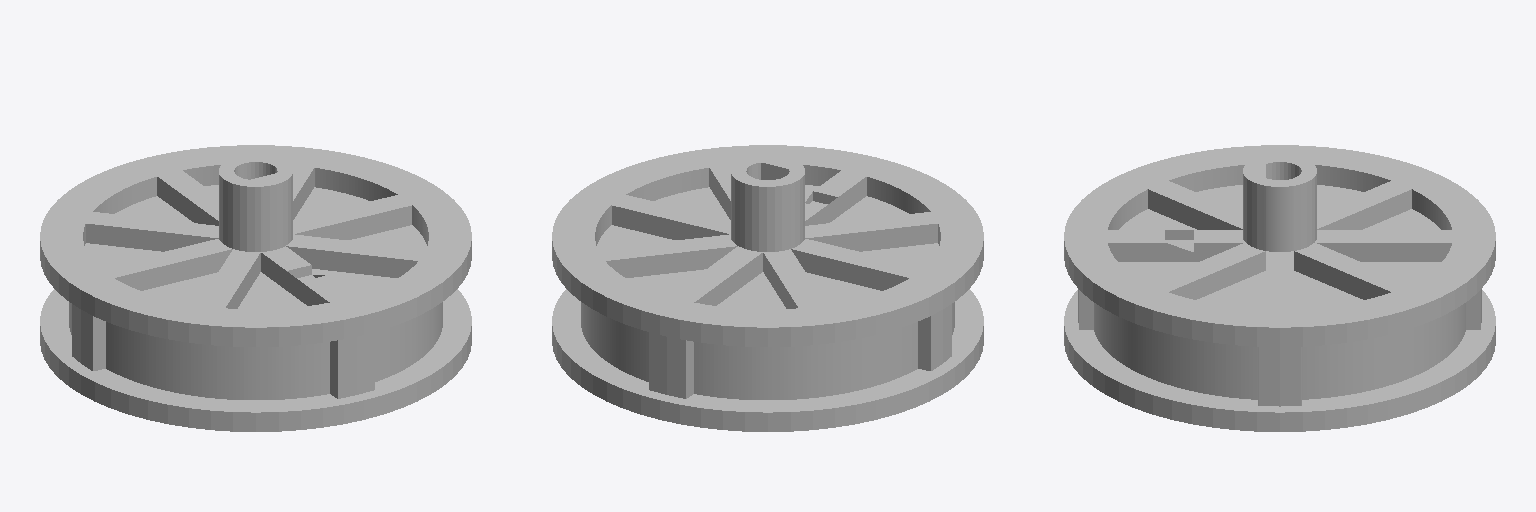
Rendered from Wheel.obj.
3 renders of one model, left to right at view 1: azimuth 30°, elevation 25°; view 2: azimuth 150°, elevation 25°; view 3: azimuth 270°, elevation 25°, orthographic.
Visible parts, largest first — view 1: Mesh1 Model; view 2: Mesh1 Model; view 3: Mesh1 Model.
Part boxes in pixels (x1,y1,x2,y2): Mesh1 Model: (40,145,471,431); Mesh1 Model: (552,145,983,431); Mesh1 Model: (1064,145,1495,431).
Size of the model in its own units: 30 by 13 by 30.